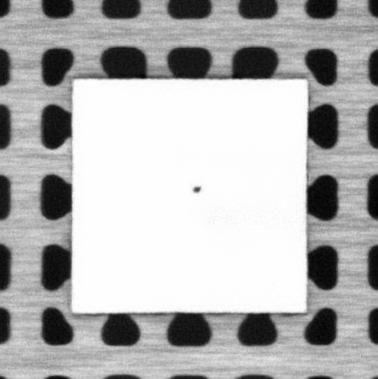DIE_INK: (190, 184, 203, 194)
